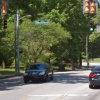Car: (21, 55, 70, 92)
